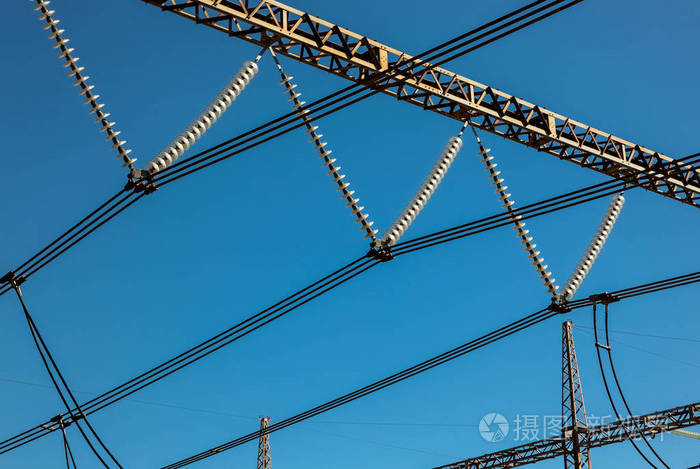insulator: (31, 1, 141, 173), (281, 74, 377, 242), (146, 60, 257, 172), (480, 147, 557, 295), (384, 136, 465, 242), (564, 191, 629, 298)
